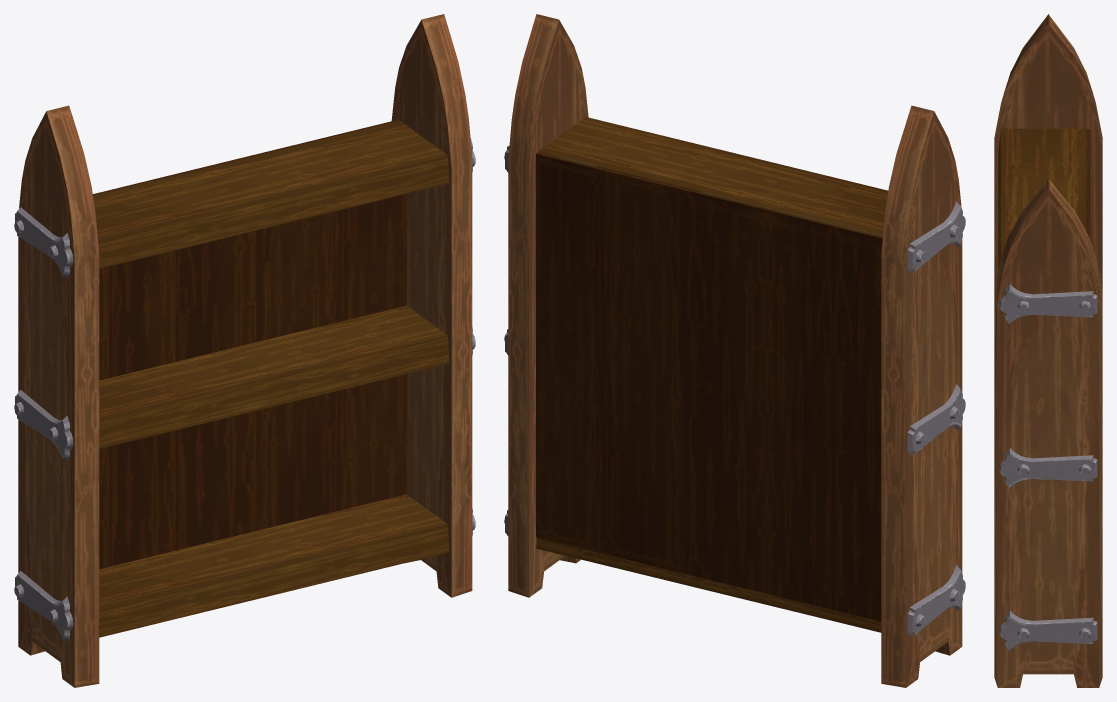
Rendered from prop_shelf_arch.glb.
3 views of the same model, side by side, from view 1: azimuth 30°, elevation 25°; view 2: azimuth 150°, elevation 25°; view 3: azimuth 270°, elevation 25° (orthographic). The views are drawn at different scales.
Parts seen in each view (by area): view 1: Cylinder032_1, Cylinder032; view 2: Cylinder032_1, Cylinder032; view 3: Cylinder032_1, Cylinder032.
Part boxes in pixels (x1=…): Cylinder032_1: x1=18, y1=14, x2=472, y2=687; Cylinder032: x1=14, y1=138, x2=475, y2=642; Cylinder032_1: x1=508, y1=14, x2=962, y2=687; Cylinder032: x1=504, y1=145, x2=965, y2=636; Cylinder032_1: x1=994, y1=14, x2=1102, y2=687; Cylinder032: x1=999, y1=284, x2=1097, y2=651.
Size of the model in its own units: 1.25 by 1.59 by 0.3116.
Materials: 2 (2 with a texture image).
